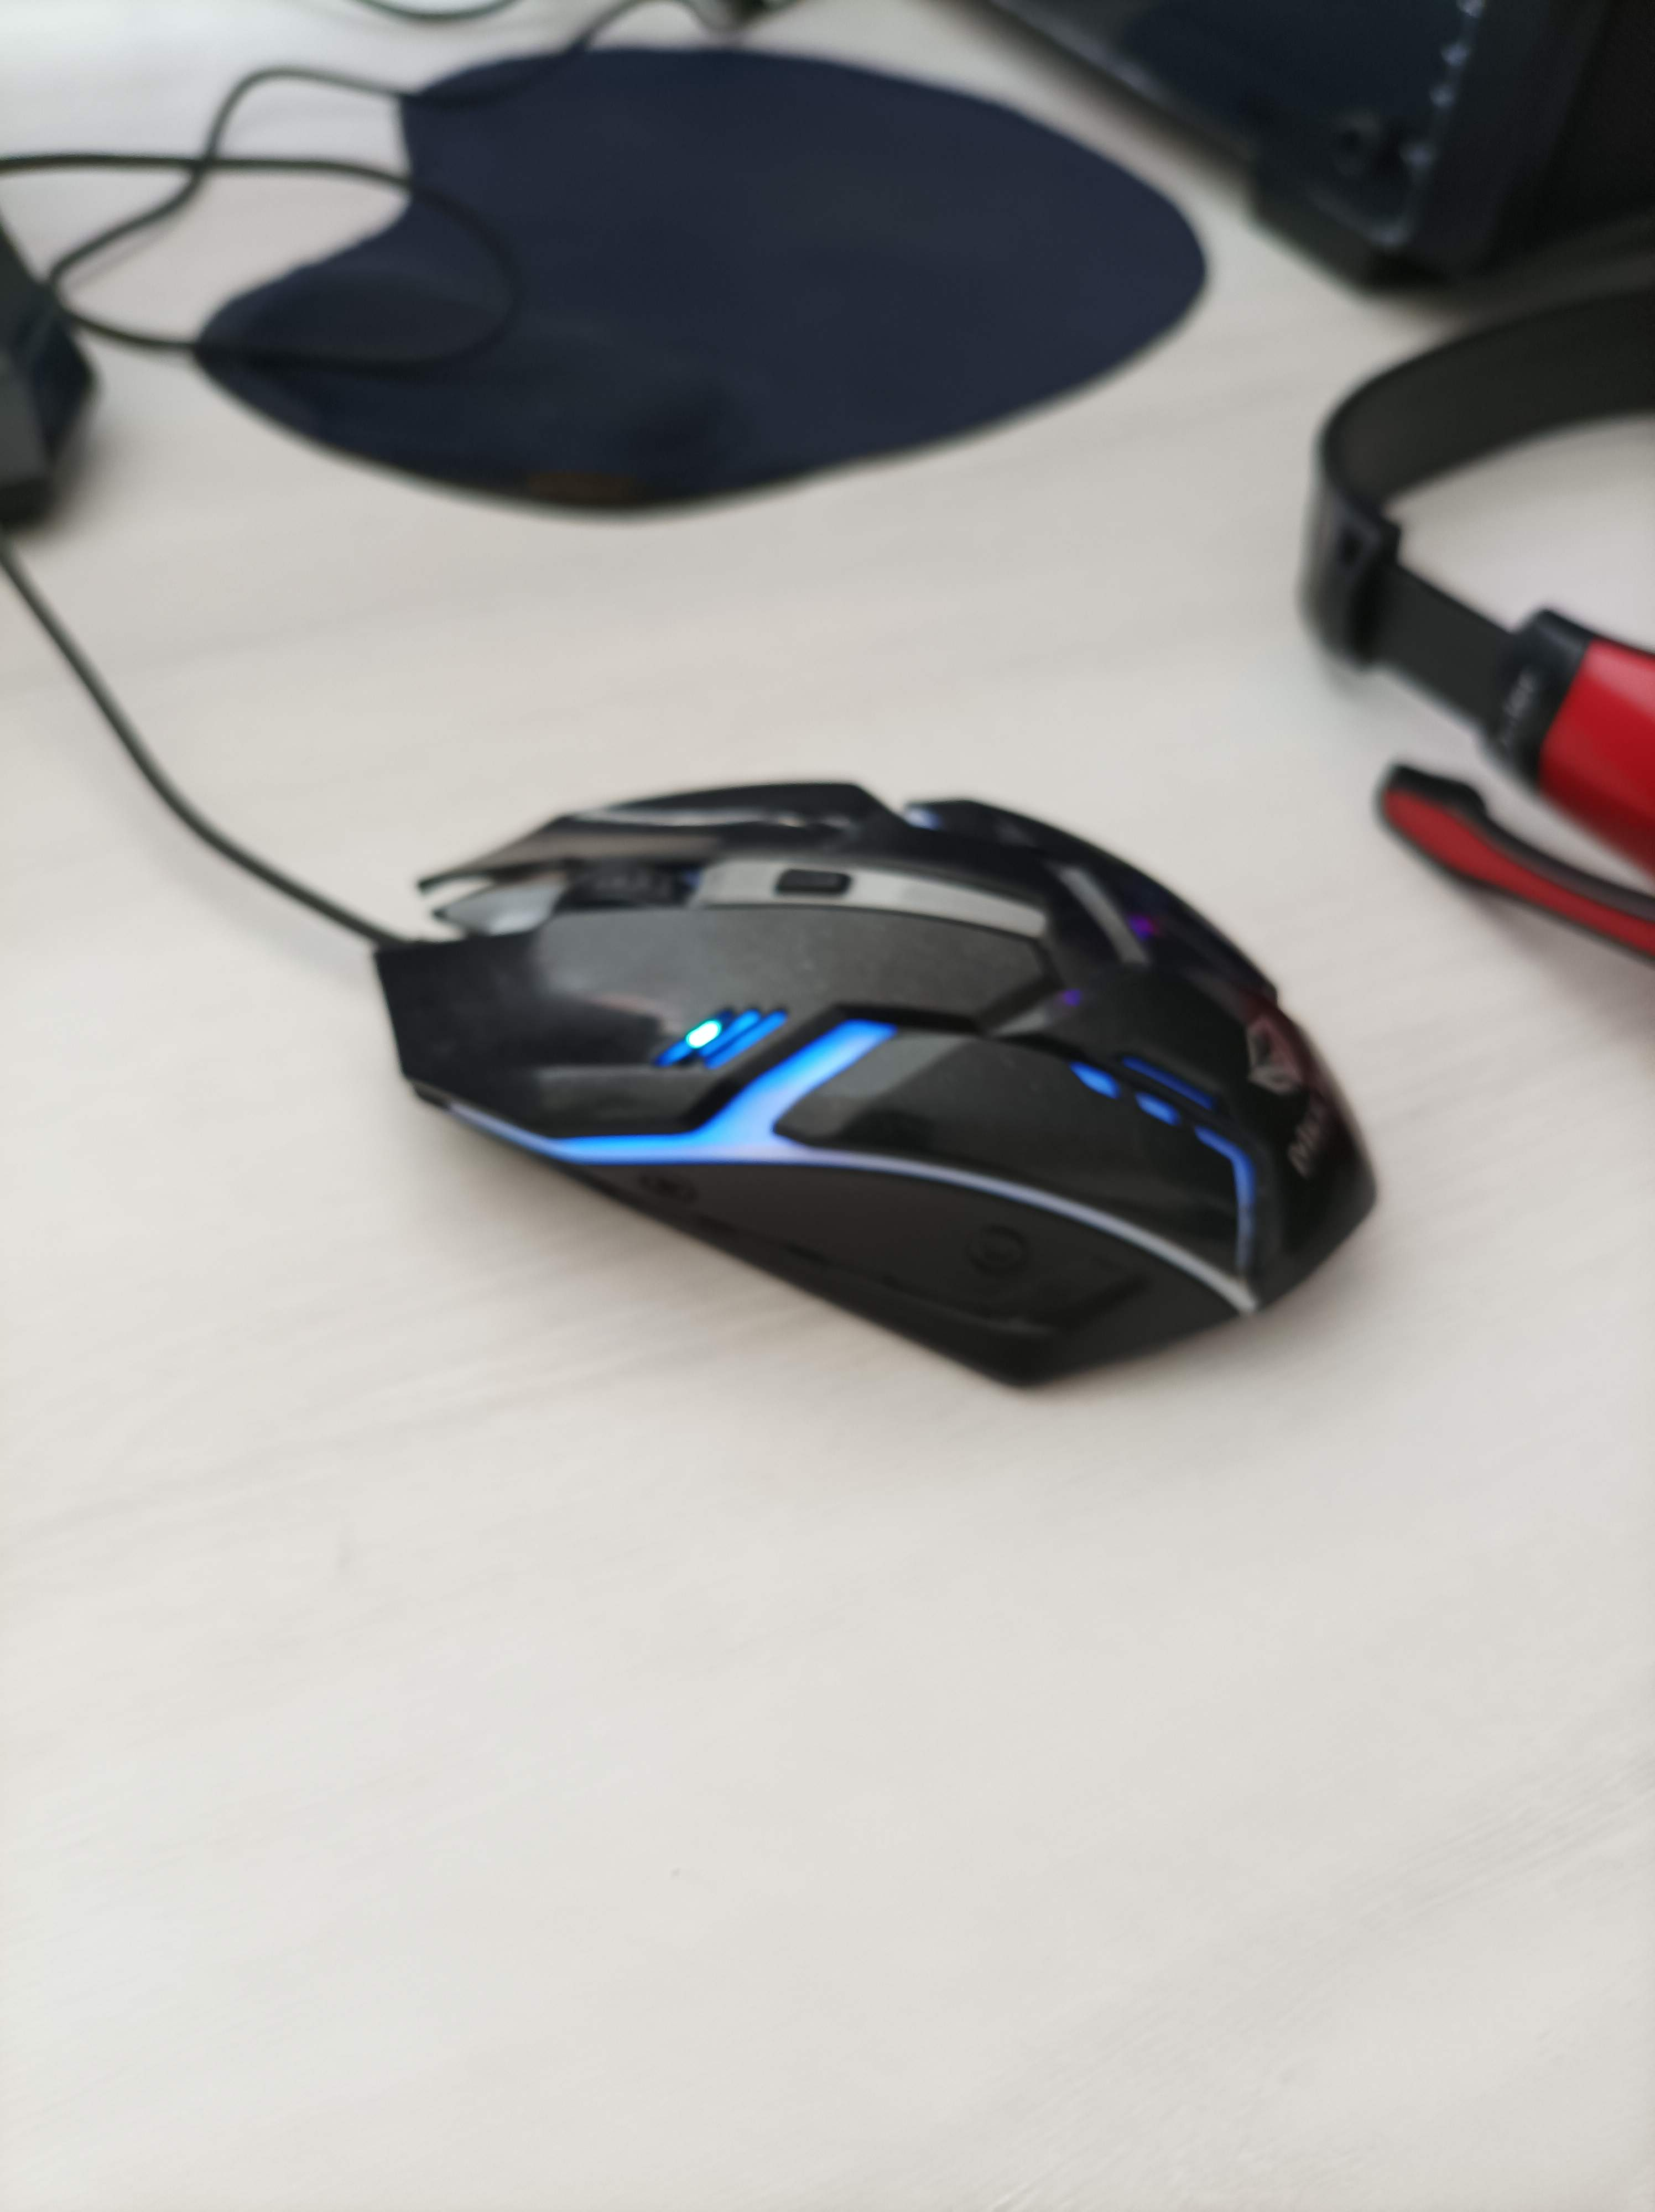mouse: (360, 765, 1387, 1407)
